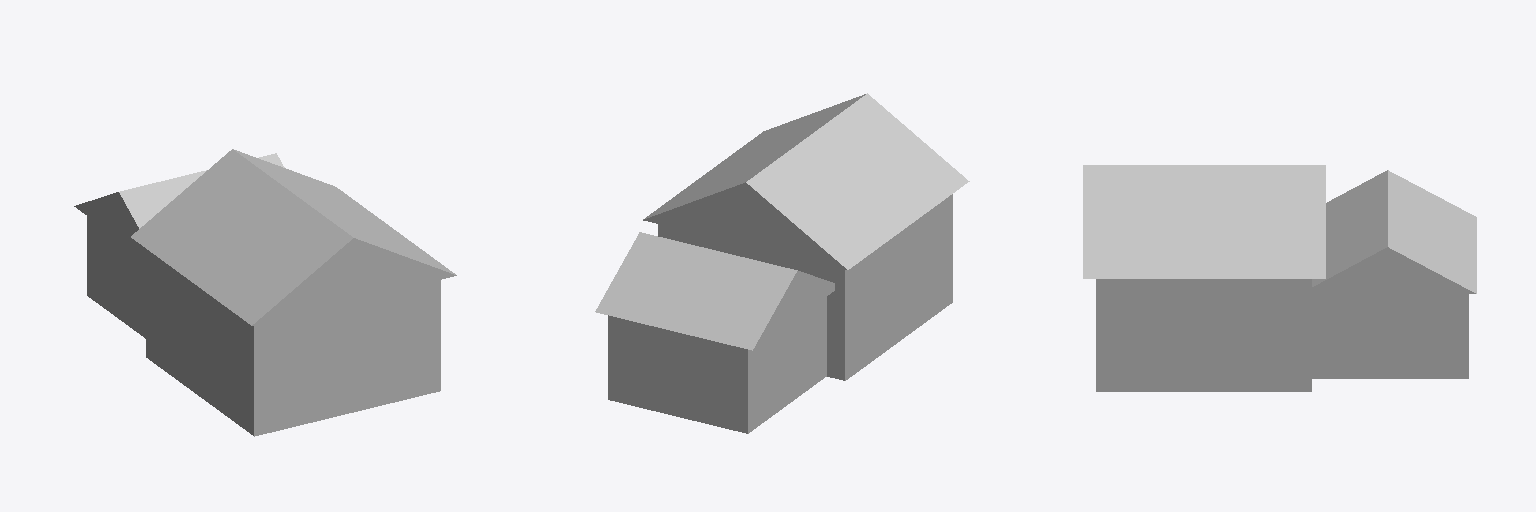
File: ruralHouse2.obj
The picture shows the model from 3 angles: view 1: azimuth 30°, elevation 25°; view 2: azimuth 150°, elevation 25°; view 3: azimuth 270°, elevation 25°; orthographic projection.
Visible parts, largest first — view 1: RuralHouse2; view 2: RuralHouse2; view 3: RuralHouse2.
Boxes of the visible parts, x1=… form: RuralHouse2: x1=74, y1=149, x2=456, y2=436; RuralHouse2: x1=595, y1=93, x2=969, y2=433; RuralHouse2: x1=1083, y1=165, x2=1476, y2=391.
Size of the model in its own units: 44 by 37 by 73.09.